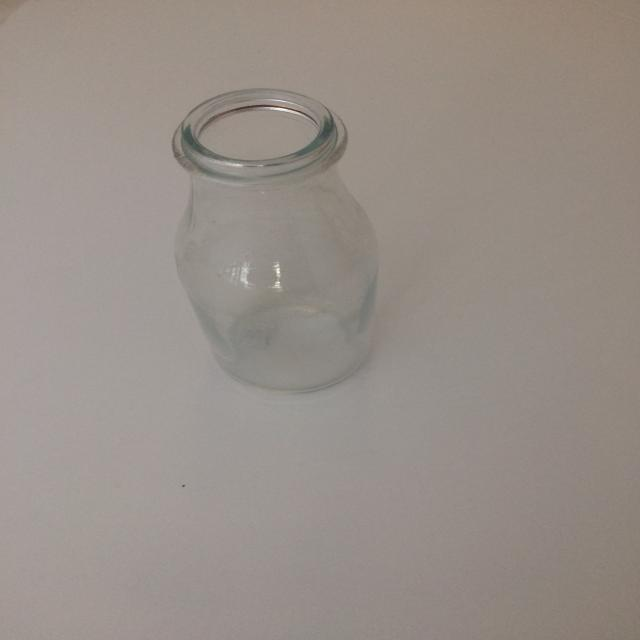glass: (171, 87, 381, 394)
